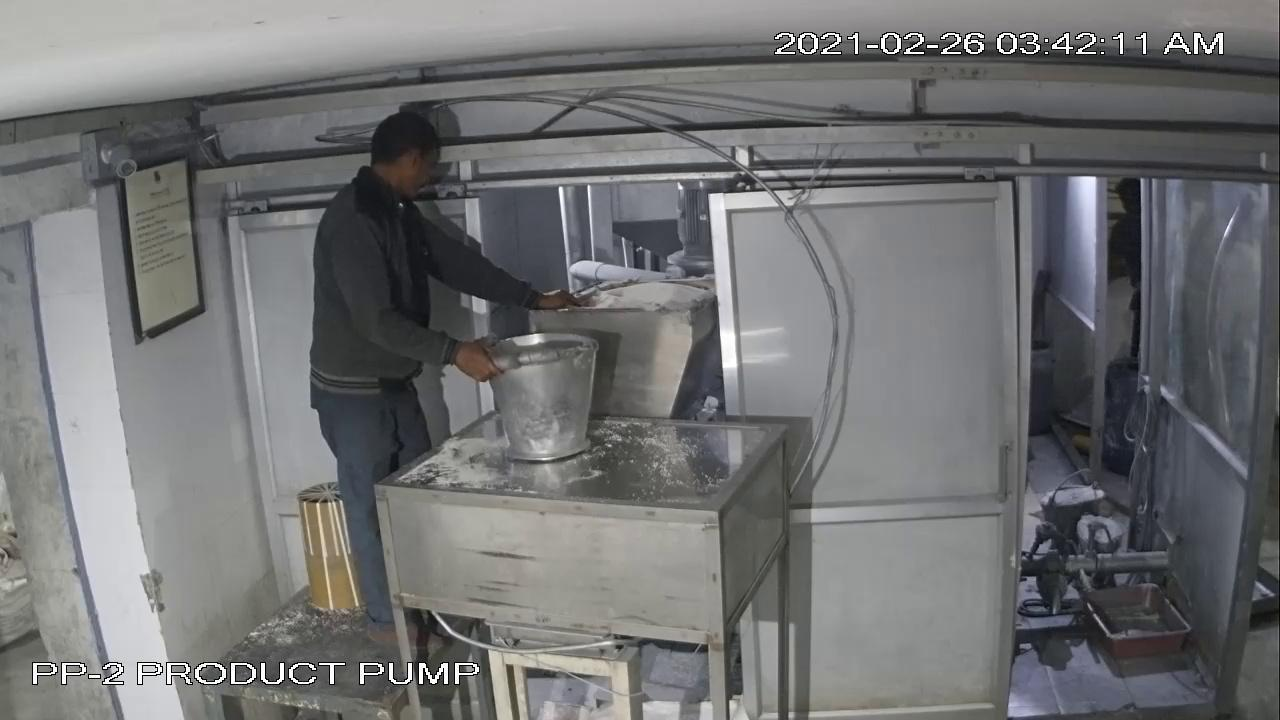NO-Hardhat: (360, 110, 450, 204)
